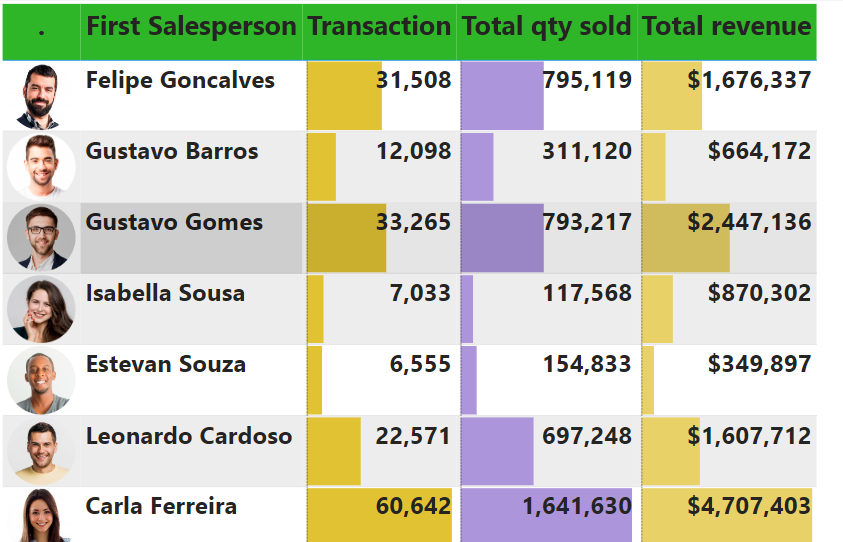

The page's visual inventory and layout, read from the dashboard file:
{"tool":"powerbi","page":{"name":"ranking by Revenue","canvas":[1280,720],"ordinal":4},"visuals":[{"type":"tableEx","fields":{"Values":["Dim_salesperson.Salesperson","Measure Table.Ranking SalesPerson","Measure Table.Total revenue"]},"box":[85.6,130.8,555,479.2],"z":0}]}

Visuals, with their boxes on the page's 1280x720 design canvas (x1, y1, x2, y2). These are canvas units, not pixel positions in the 843x542 screenshot, which may show the page scaled, cropped or inside an application window:
tableEx - Dim_salesperson.Salesperson x Measure Table.Ranking SalesPerson: select_region(86, 131, 641, 610)
